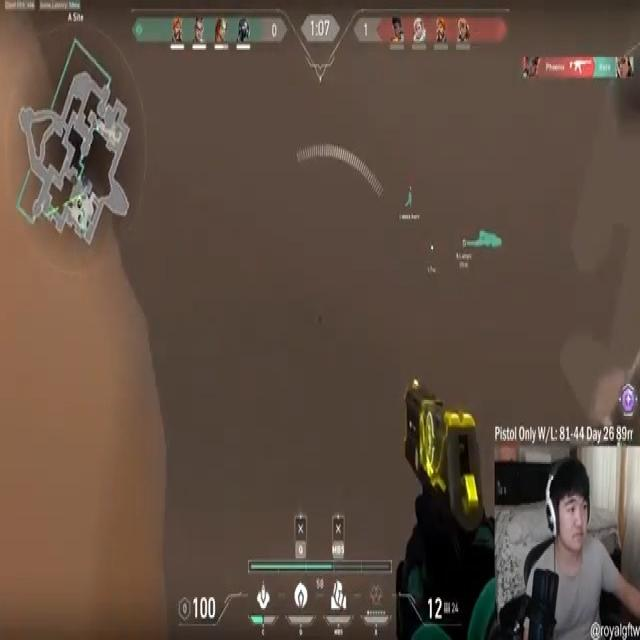ally behind wall: (458, 222, 507, 253), (406, 182, 414, 209)
